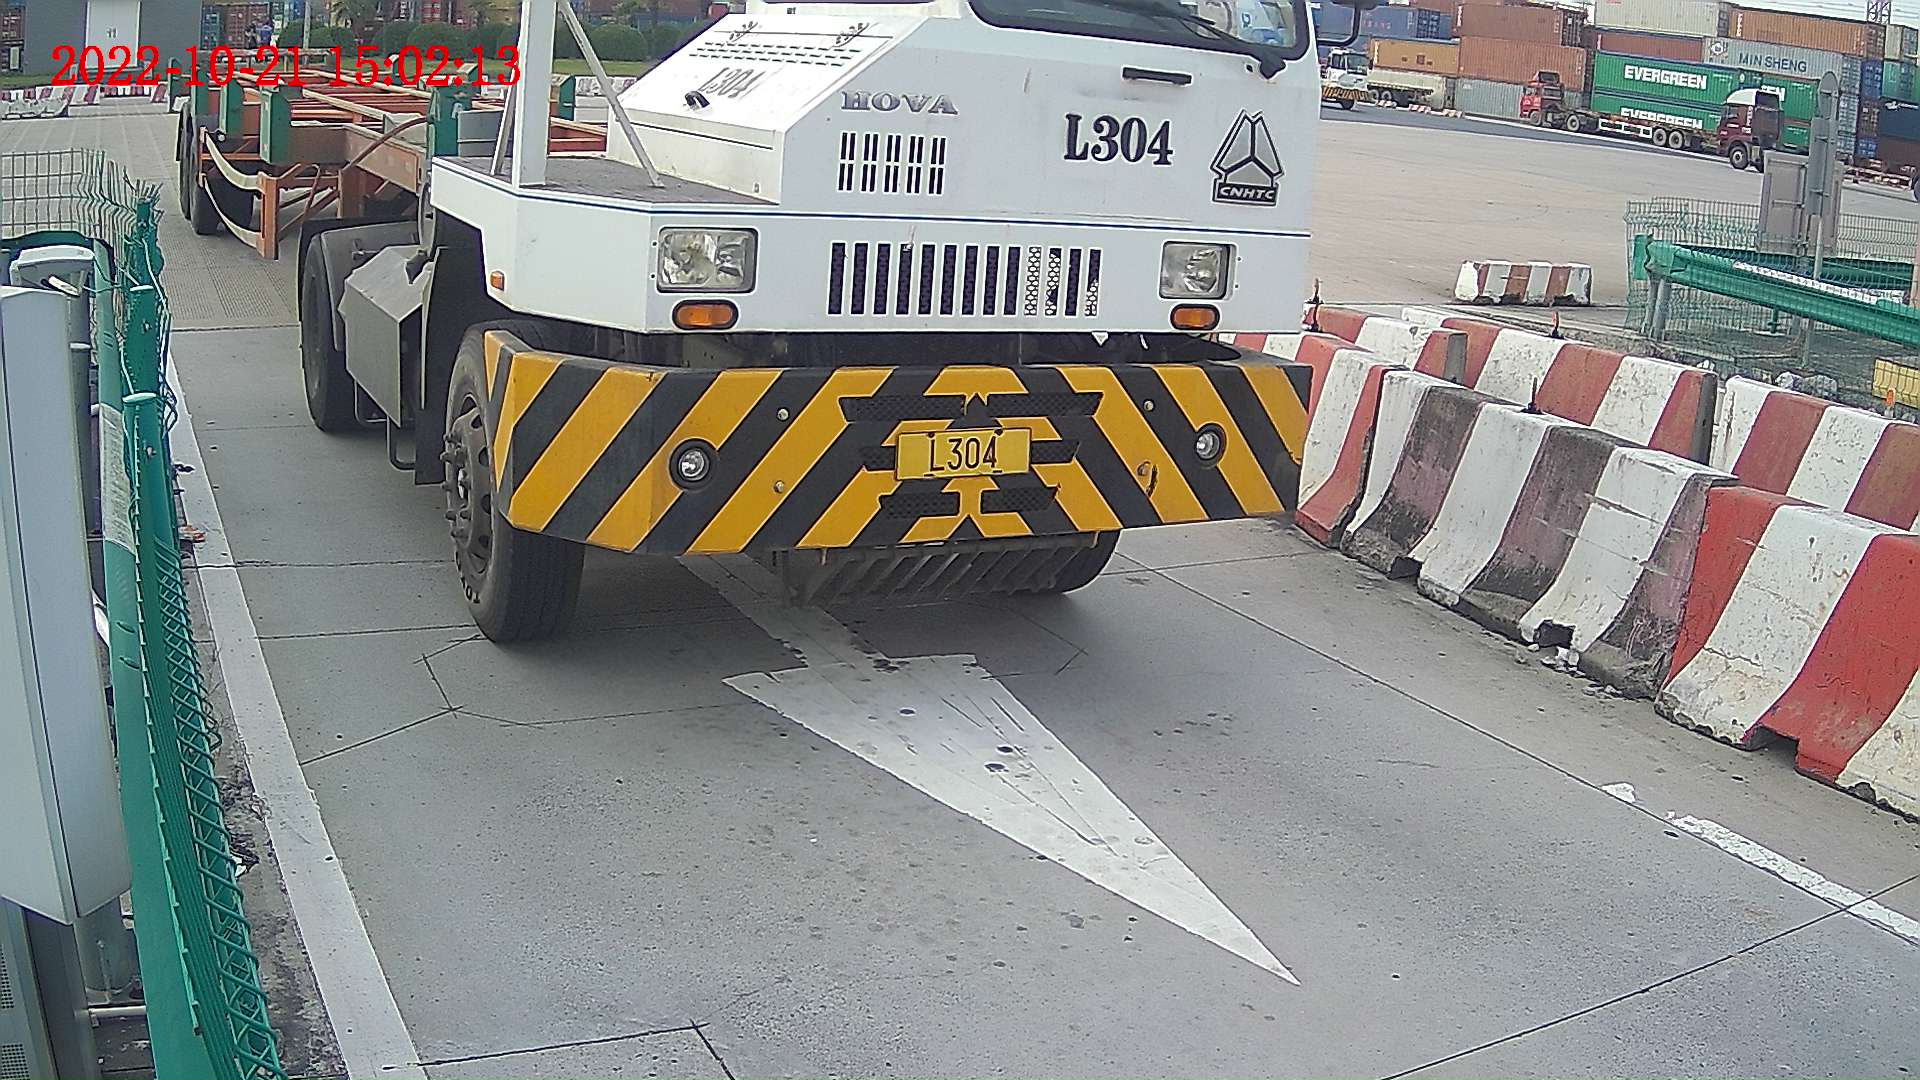head: (415, 1, 1329, 640)
plate: (900, 431, 1029, 474)
